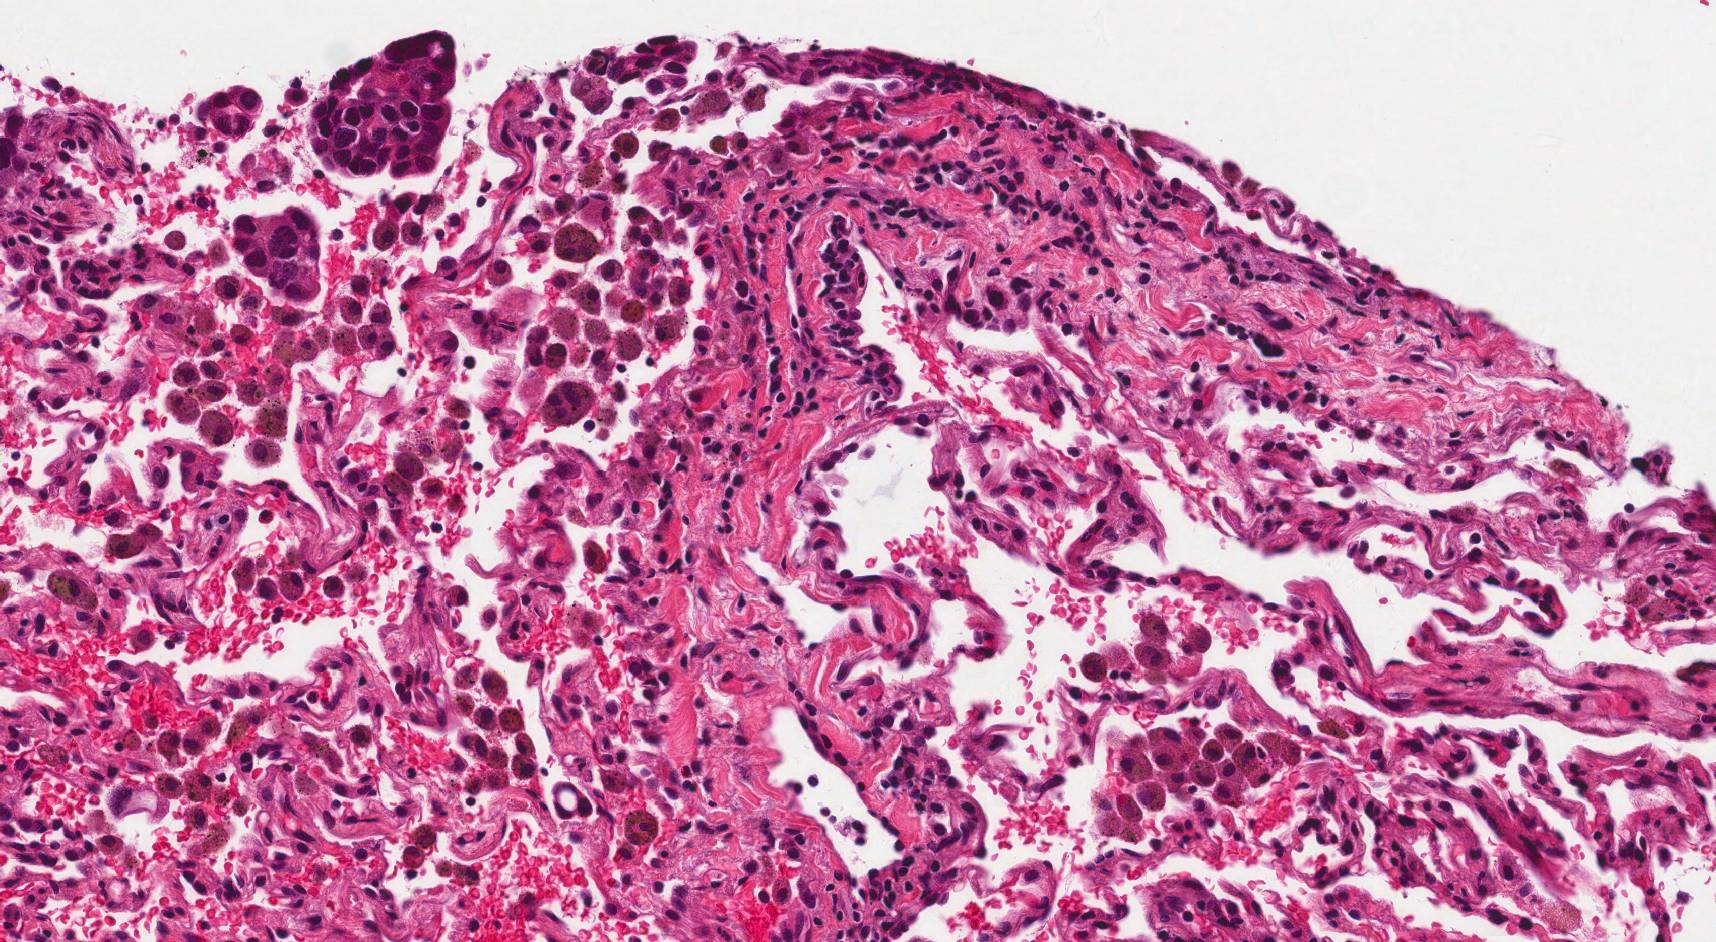stas: (310, 29, 460, 179), (232, 206, 322, 299), (194, 84, 262, 134)
